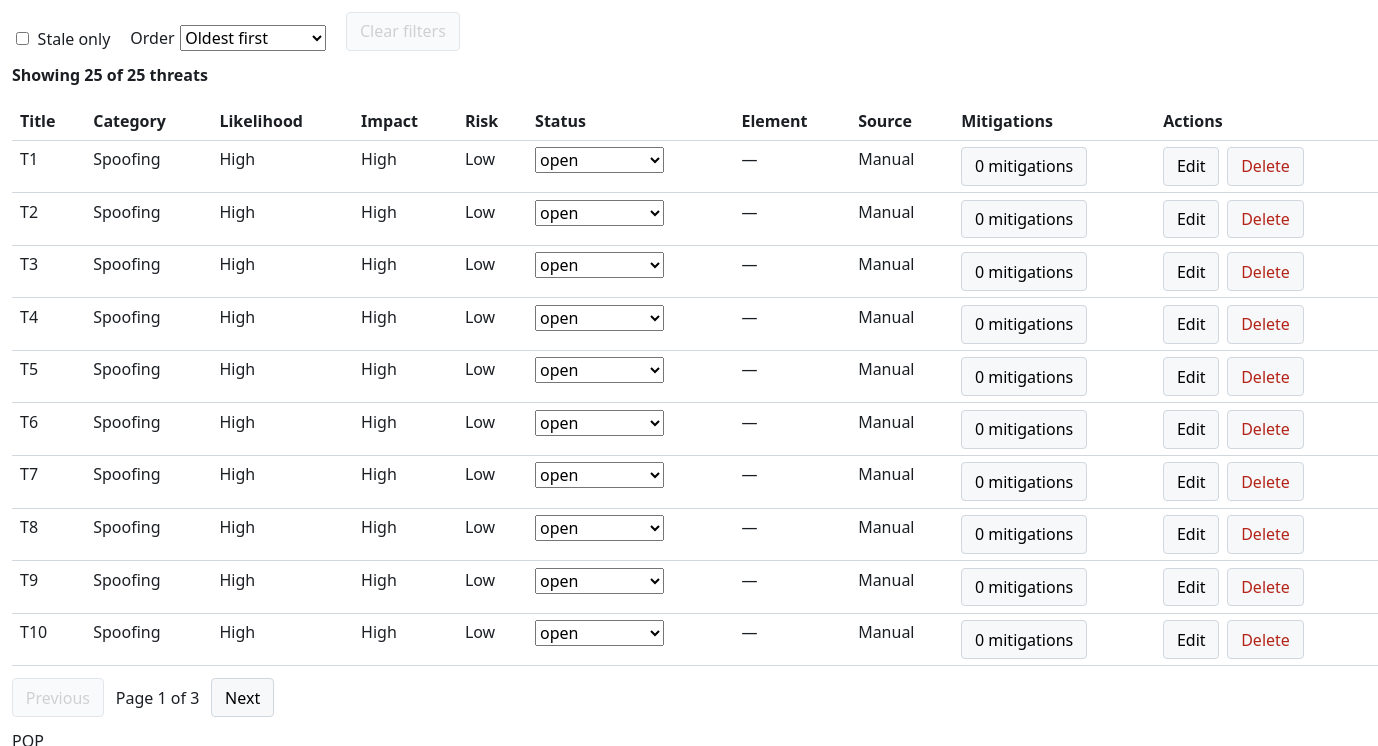
pages (research #9) › goes back to page 1 when a filter changes
(page scrolled)
Expected: the text "Page 1 of 3" is shown, x1=116 y1=686 x2=199 y2=710
Click the button "Next": point(243, 698) x1=211 y1=678 x2=274 y2=717
(page scrolled)
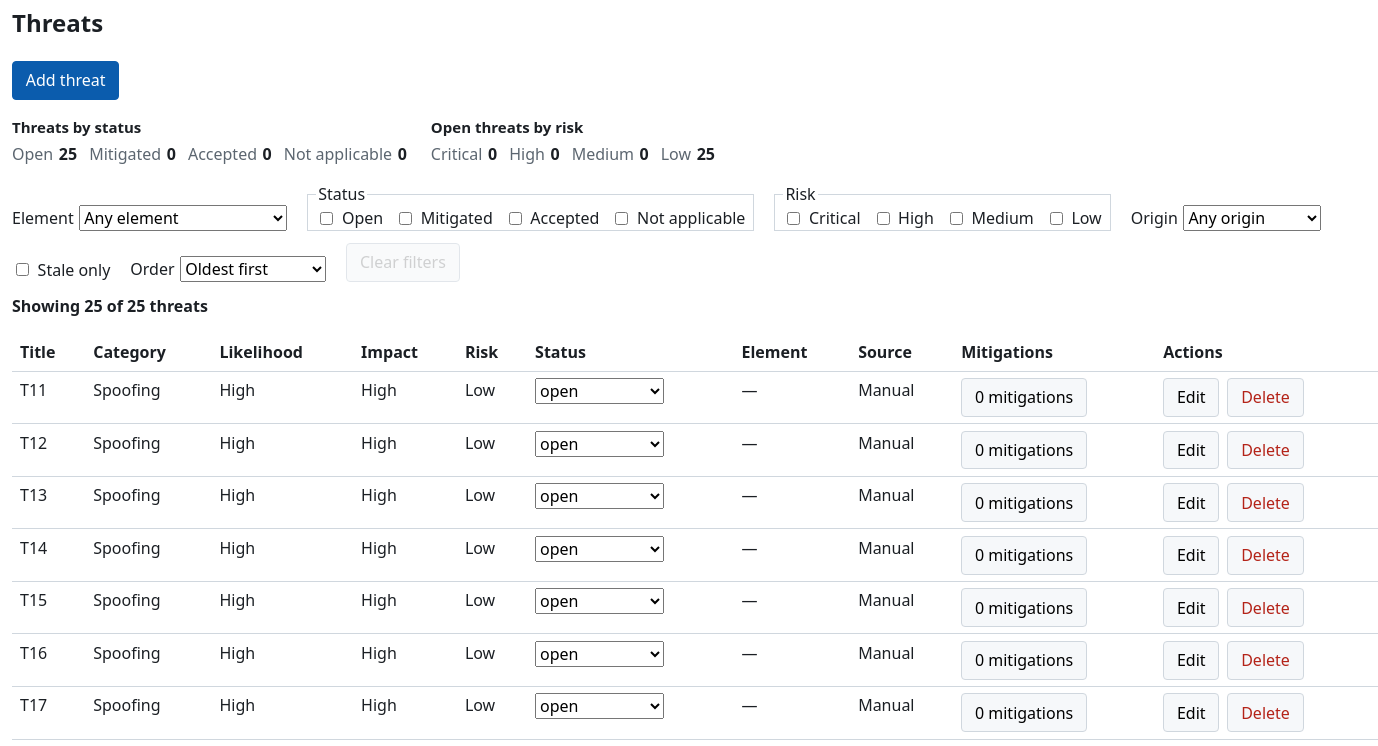
Click the checkbox labelled "Open": point(327, 218) x1=320 y1=212 x2=333 y2=225
(page scrolled)
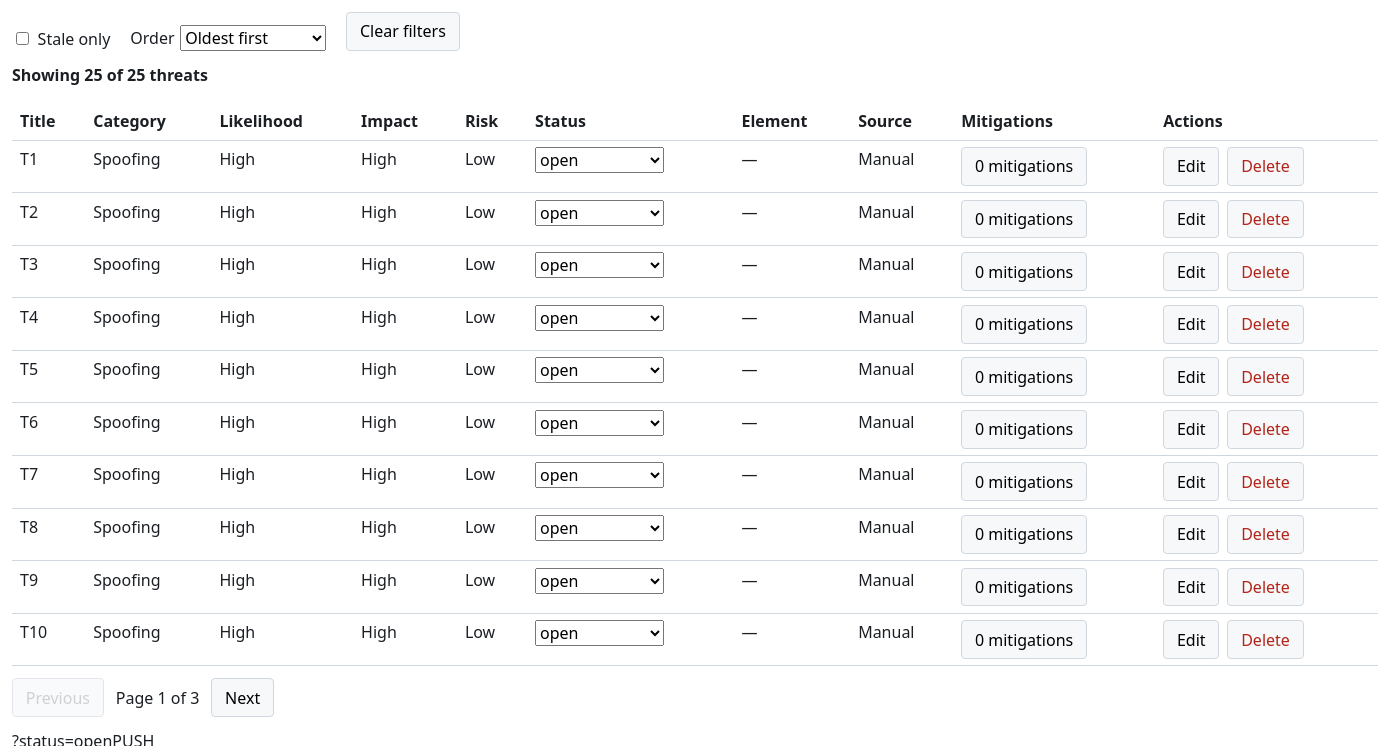
Expected: the text "Page 1 of 3" is shown, x1=116 y1=686 x2=199 y2=710
